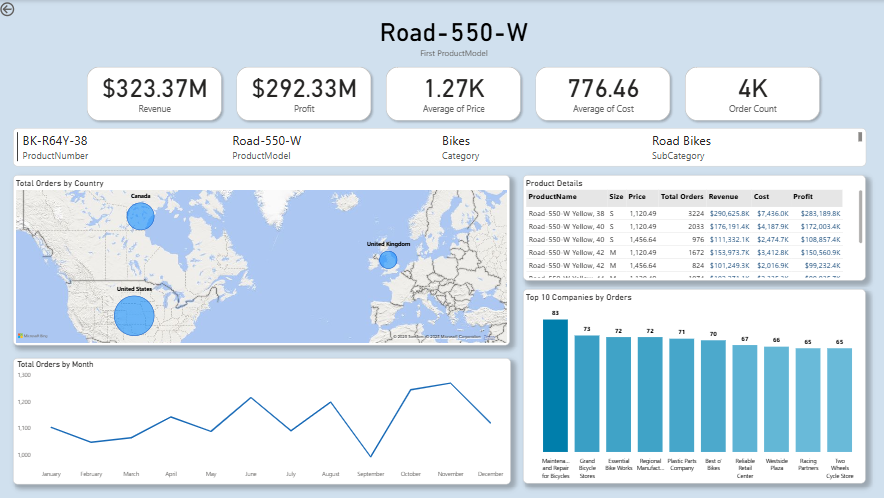

This screenshot's page, from the dashboard's own definition file:
{"tool":"powerbi","page":{"name":"Product","canvas":[1920,1080],"ordinal":2},"visuals":[{"type":"actionButton","box":[0,0,100,40],"z":0},{"type":"cardVisual","fields":{"Data":["FactSales.#Total Revenue","FactSales.#Profit","Avg(DimProduct.Price)","Avg(DimProduct.Cost)","FactSales.#Order Count"]},"box":[175,127.5,1617.5,150],"z":1000},{"type":"multiRowCard","title":"Customer Details","fields":{"Values":["DimProduct.ProductNumber","DimProduct.ProductModel","DimProduct.Category","DimProduct.SubCategory"]},"box":[32.5,277.5,1842.5,82.5],"z":2000},{"type":"card","fields":{"Values":["Min(DimProduct.ProductModel)"]},"box":[50,0,1870,150],"z":3000},{"type":"tableEx","title":"Product Details","fields":{"Values":["DimProduct.ProductName","DimProduct.Size","DimProduct.Price","CountNonNull(FactSales.SalesOrderID)","FactSales.#Total Revenue","FactSales.#Total Cost","FactSales.#Profit"]},"box":[1135,377.5,740,227.5],"z":4000},{"type":"map","title":"Total Orders by Country","fields":{"Category":["DimCustomer.Country","DimCustomer.State"],"Size":["Count(FactSales.SalesOrderID)"]},"box":[32.5,377.5,1072.5,367.5],"z":5000},{"type":"clusteredColumnChart","title":"Top 10 Companies by Orders","fields":{"Y":["CountNonNull(FactSales.SalesOrderID)"],"Category":["DimCustomer.CompanyName"]},"box":[1135,625,740,420],"z":6000},{"type":"lineChart","fields":{"Y":["CountNonNull(FactSales.CustomerKey)"],"Category":["FactSales.OrderDate.Variation.Date Hierarchy.Year","FactSales.OrderDate.Variation.Date Hierarchy.Quarter","FactSales.OrderDate.Variation.Date Hierarchy.Month","FactSales.OrderDate.Variation.Date Hierarchy.Day"]},"box":[32.5,772.5,1075,272.5],"z":7000}]}

Visuals, with their boxes in screenshot pixels (x1, y1, x2, y2), scaled from the page's 1920x1080 canvas onto the 884x498 screenshot:
actionButton: {"x1": 0, "y1": 0, "x2": 46, "y2": 18}
cardVisual - FactSales.#Total Revenue x FactSales.#Profit: {"x1": 81, "y1": 59, "x2": 825, "y2": 128}
"Customer Details" multiRowCard: {"x1": 15, "y1": 128, "x2": 863, "y2": 166}
card - Min(DimProduct.ProductModel): {"x1": 23, "y1": 0, "x2": 883, "y2": 69}
"Product Details" tableEx: {"x1": 523, "y1": 174, "x2": 863, "y2": 279}
"Total Orders by Country" map: {"x1": 15, "y1": 174, "x2": 509, "y2": 344}
"Top 10 Companies by Orders" clusteredColumnChart: {"x1": 523, "y1": 288, "x2": 863, "y2": 482}
lineChart - CountNonNull(FactSales.CustomerKey) x FactSales.OrderDate.Variation.Date Hierarchy.Year: {"x1": 15, "y1": 356, "x2": 510, "y2": 482}
